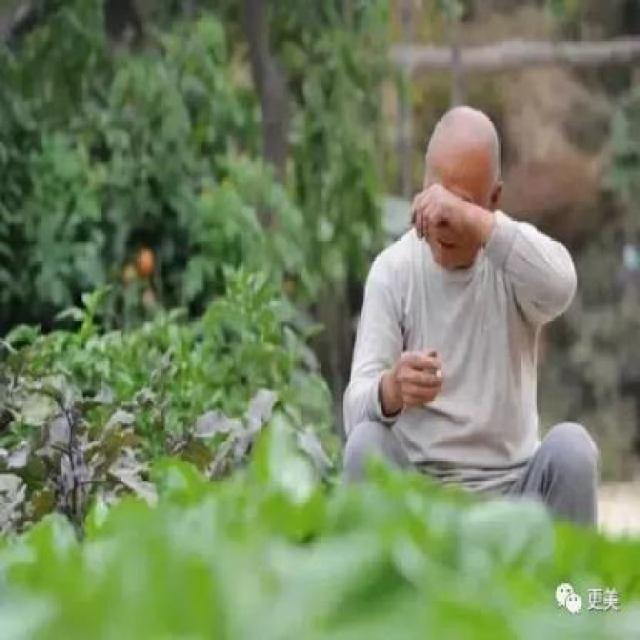hand_noglove: (392, 348, 445, 409), (409, 180, 451, 245)
head_nohelmet: (417, 103, 505, 175)
person: (337, 98, 598, 632)
